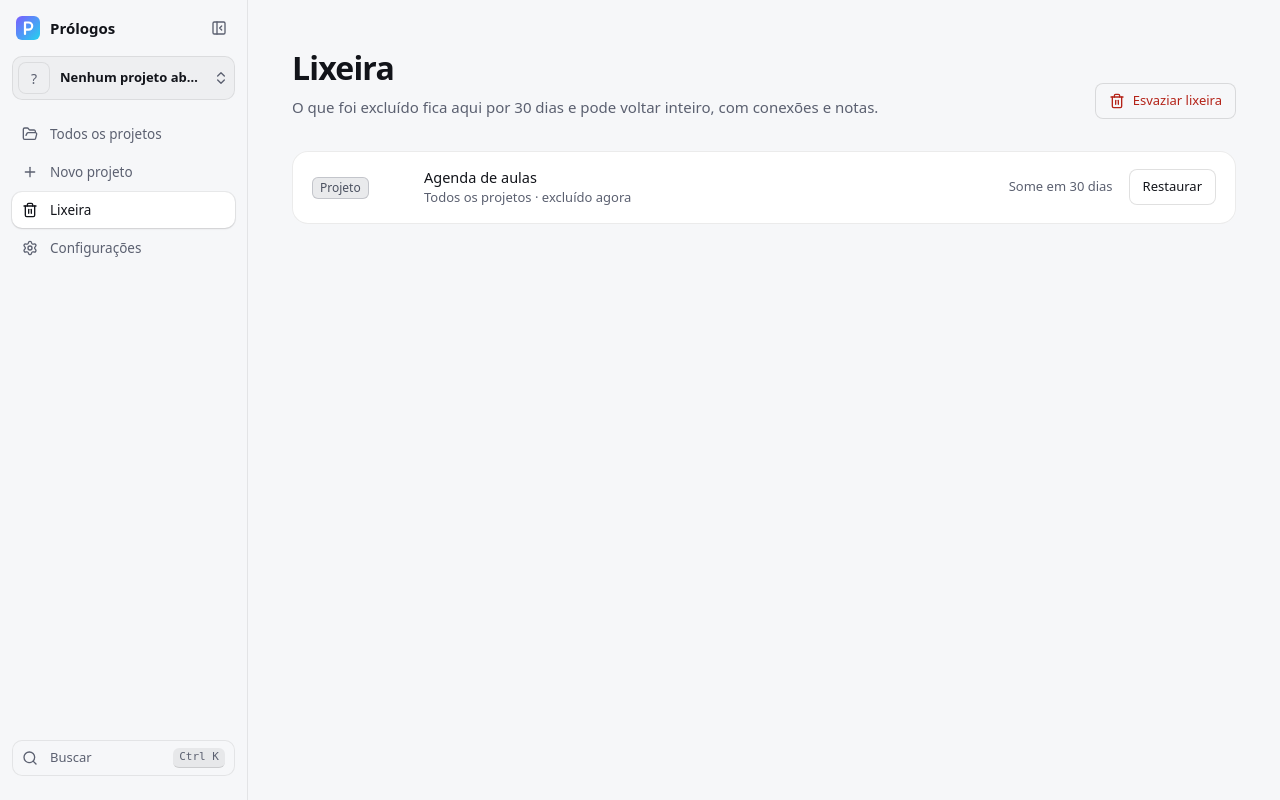
it: trash (RN 11) › emptying asks for confirmation, the only one in the app
This screenshot has width=1280, height=800.
Click the button "Esvaziar lixeira" at (1165, 100), box [1095, 82, 1236, 118]
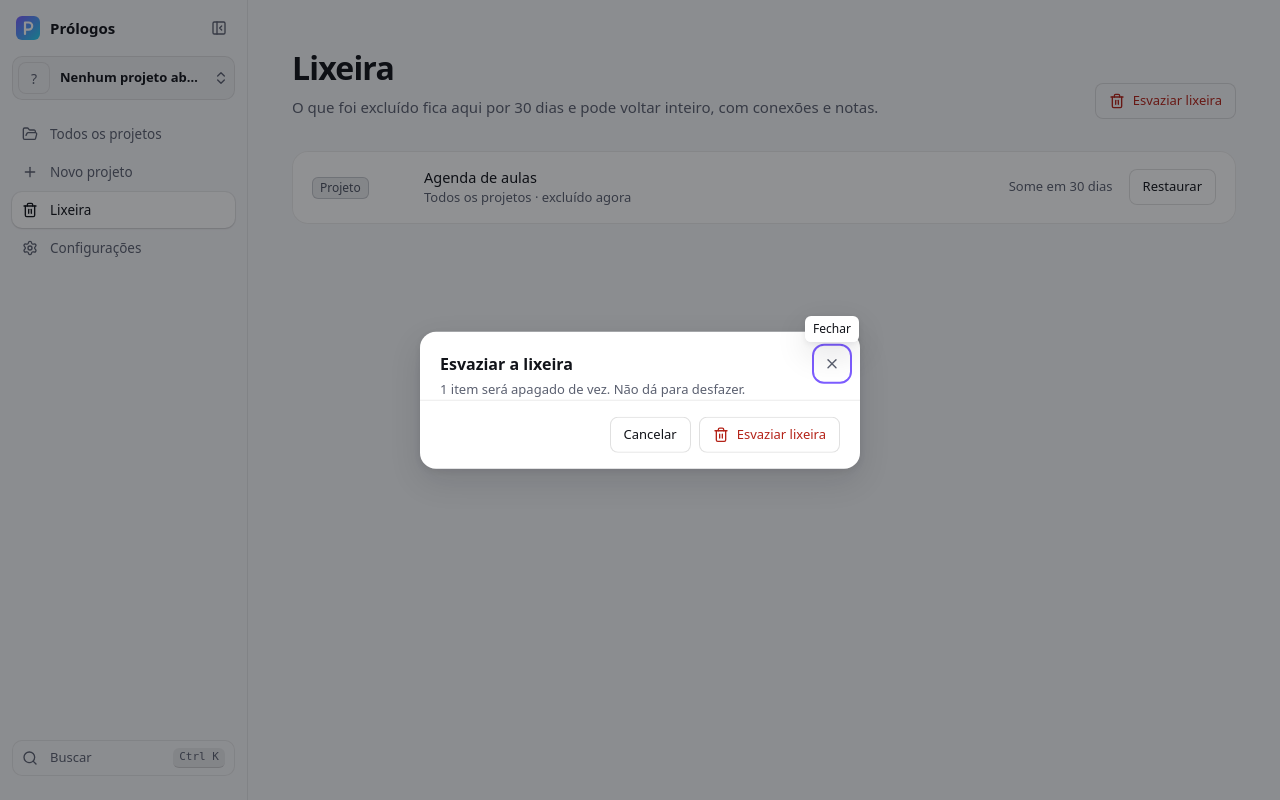
Expected: the text "1 item será apagado de vez. Não dá para desfazer." is shown, [440, 380, 745, 399]
Click the button "Esvaziar lixeira" at (769, 434), box [699, 416, 840, 452]
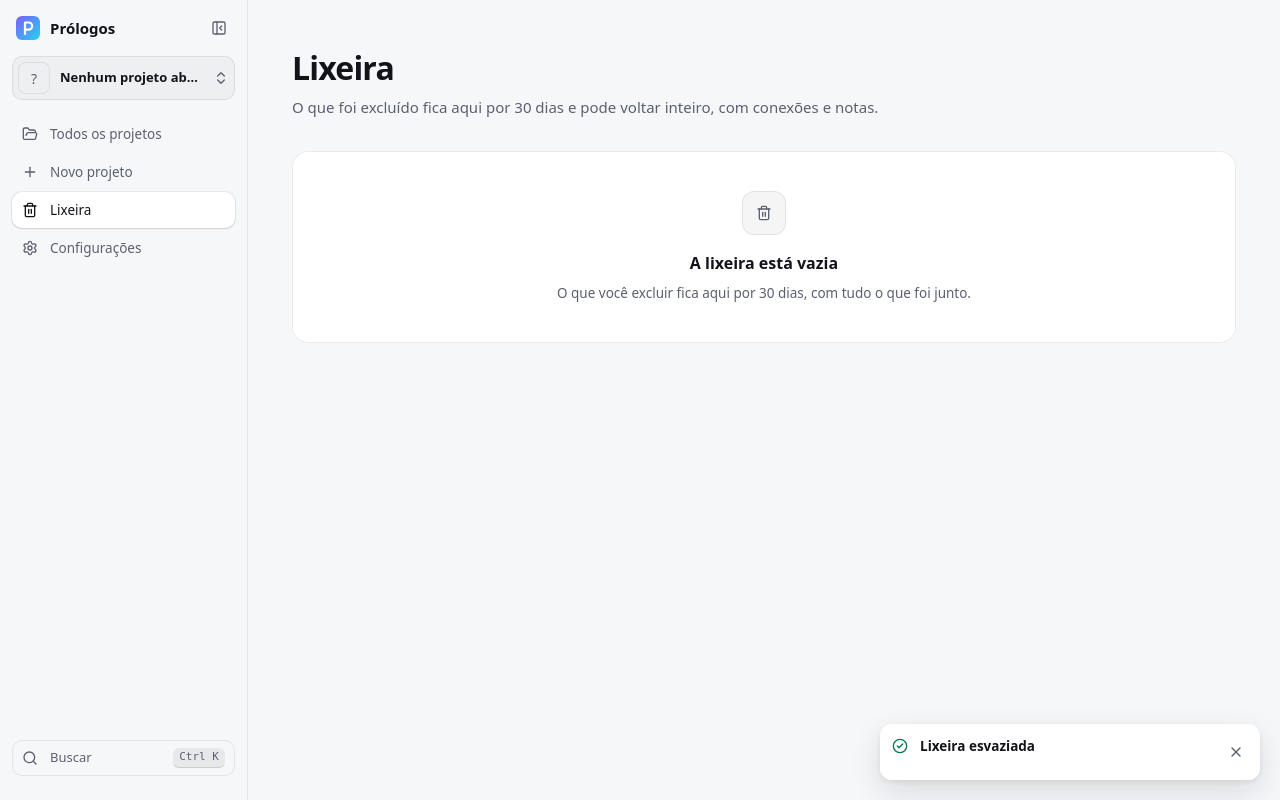
Expected: the text "Lixeira esvaziada" is shown, [920, 737, 1035, 755]
